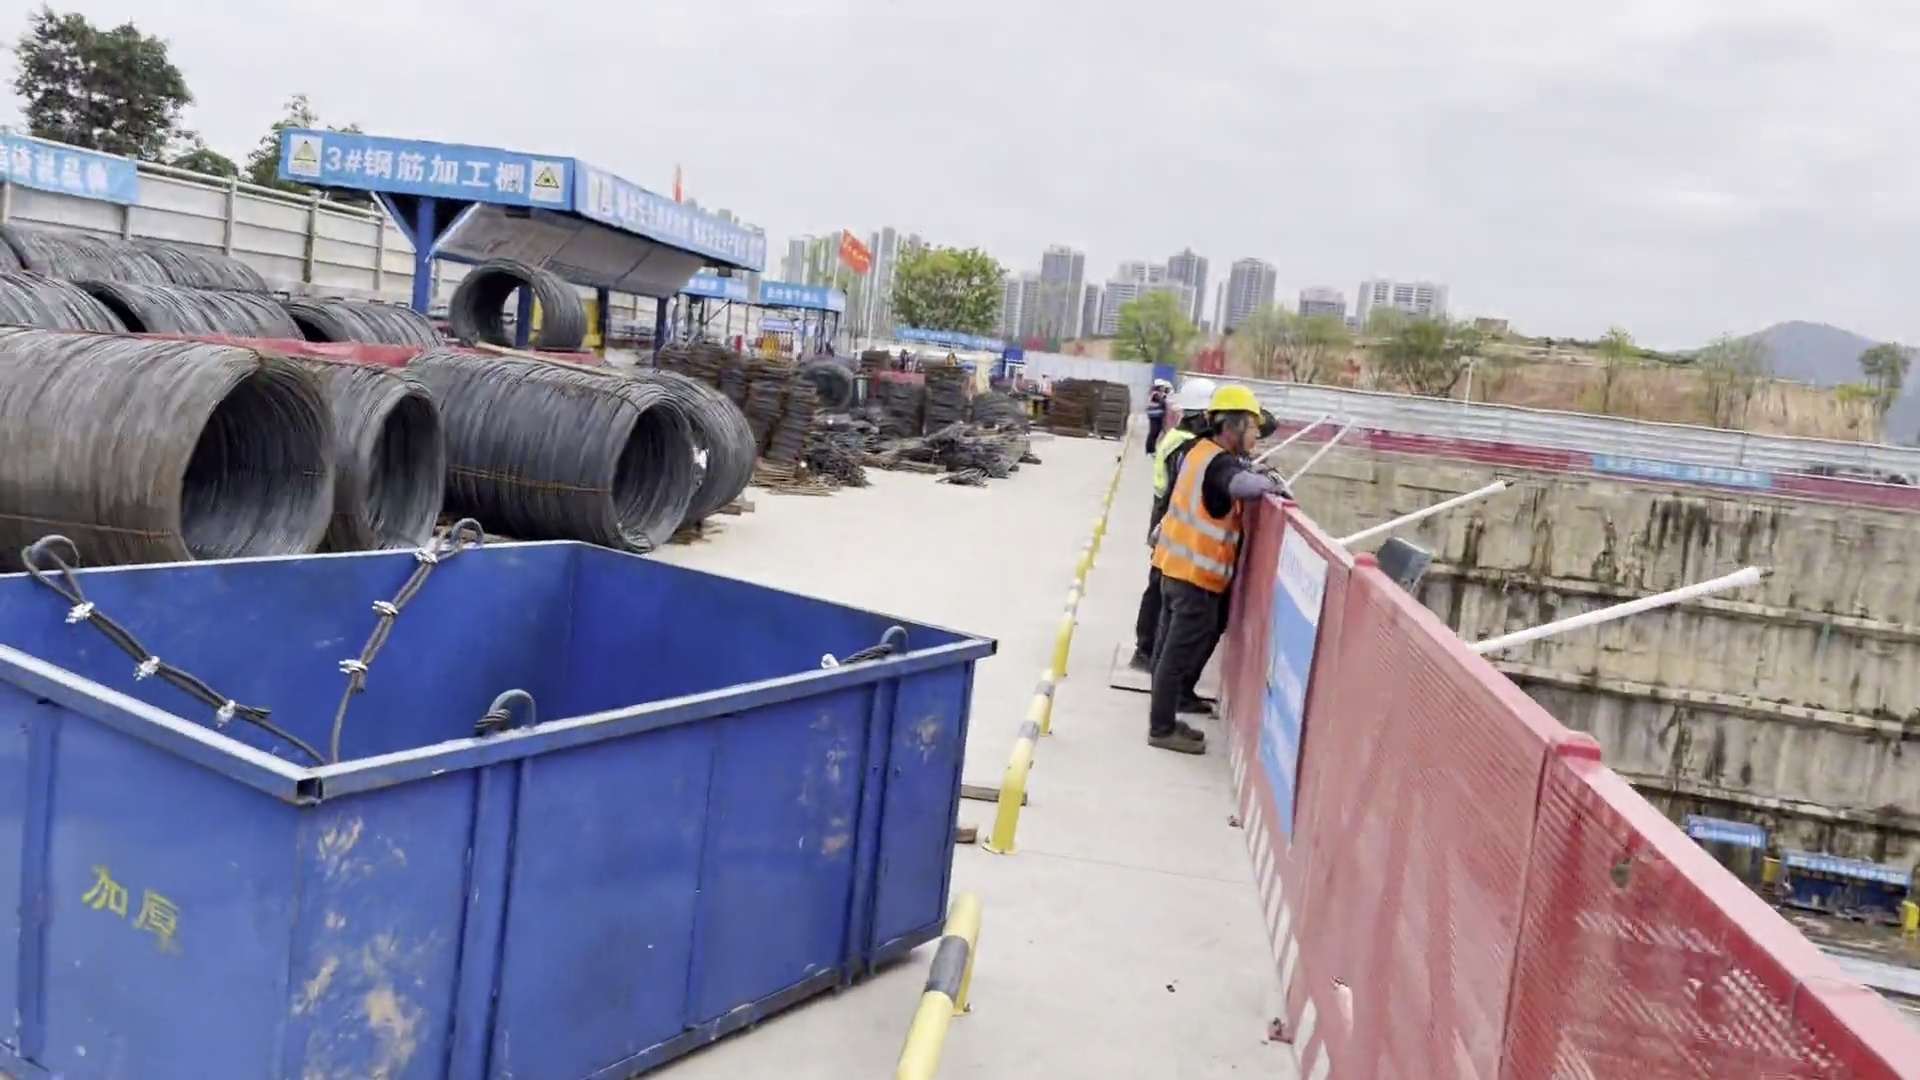fence: (1205, 412, 1920, 1068), (1283, 422, 1920, 523)
helmet: (1169, 378, 1221, 415), (1211, 387, 1262, 416), (1152, 380, 1165, 391), (1014, 367, 1026, 377), (1164, 381, 1173, 389), (1042, 371, 1050, 379)
hopper: (5, 537, 1012, 1080)
person: (1163, 379, 1271, 742), (1136, 365, 1221, 664), (1146, 376, 1173, 458), (1033, 371, 1053, 397), (1010, 368, 1028, 394)
slogan: (1585, 452, 1779, 497)
vest: (1159, 454, 1250, 590), (1153, 427, 1192, 502), (1148, 391, 1163, 420), (1038, 379, 1051, 396), (1012, 378, 1021, 394)
